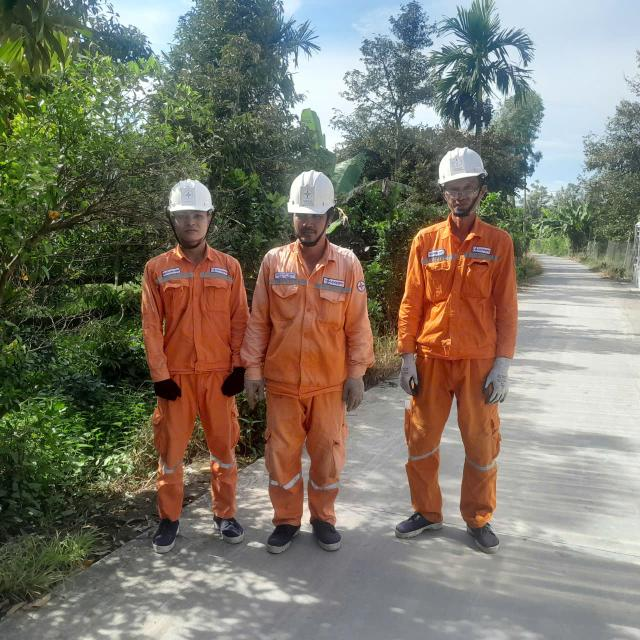gloves: (482, 347, 516, 409), (391, 354, 427, 399), (146, 375, 191, 405), (339, 372, 369, 413), (243, 378, 273, 410), (226, 365, 245, 397)
helmet: (422, 141, 496, 188), (281, 172, 340, 213), (157, 179, 221, 213)
shoes: (202, 503, 262, 549), (386, 500, 446, 539), (145, 513, 185, 563), (466, 513, 508, 554), (263, 512, 301, 552), (308, 521, 346, 555)
